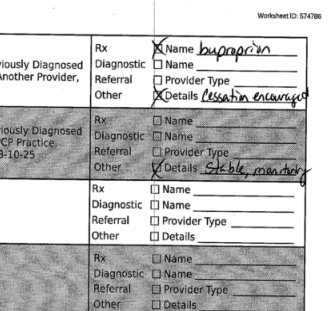checked: (148, 85, 168, 106), (148, 38, 167, 58), (148, 157, 164, 180)
